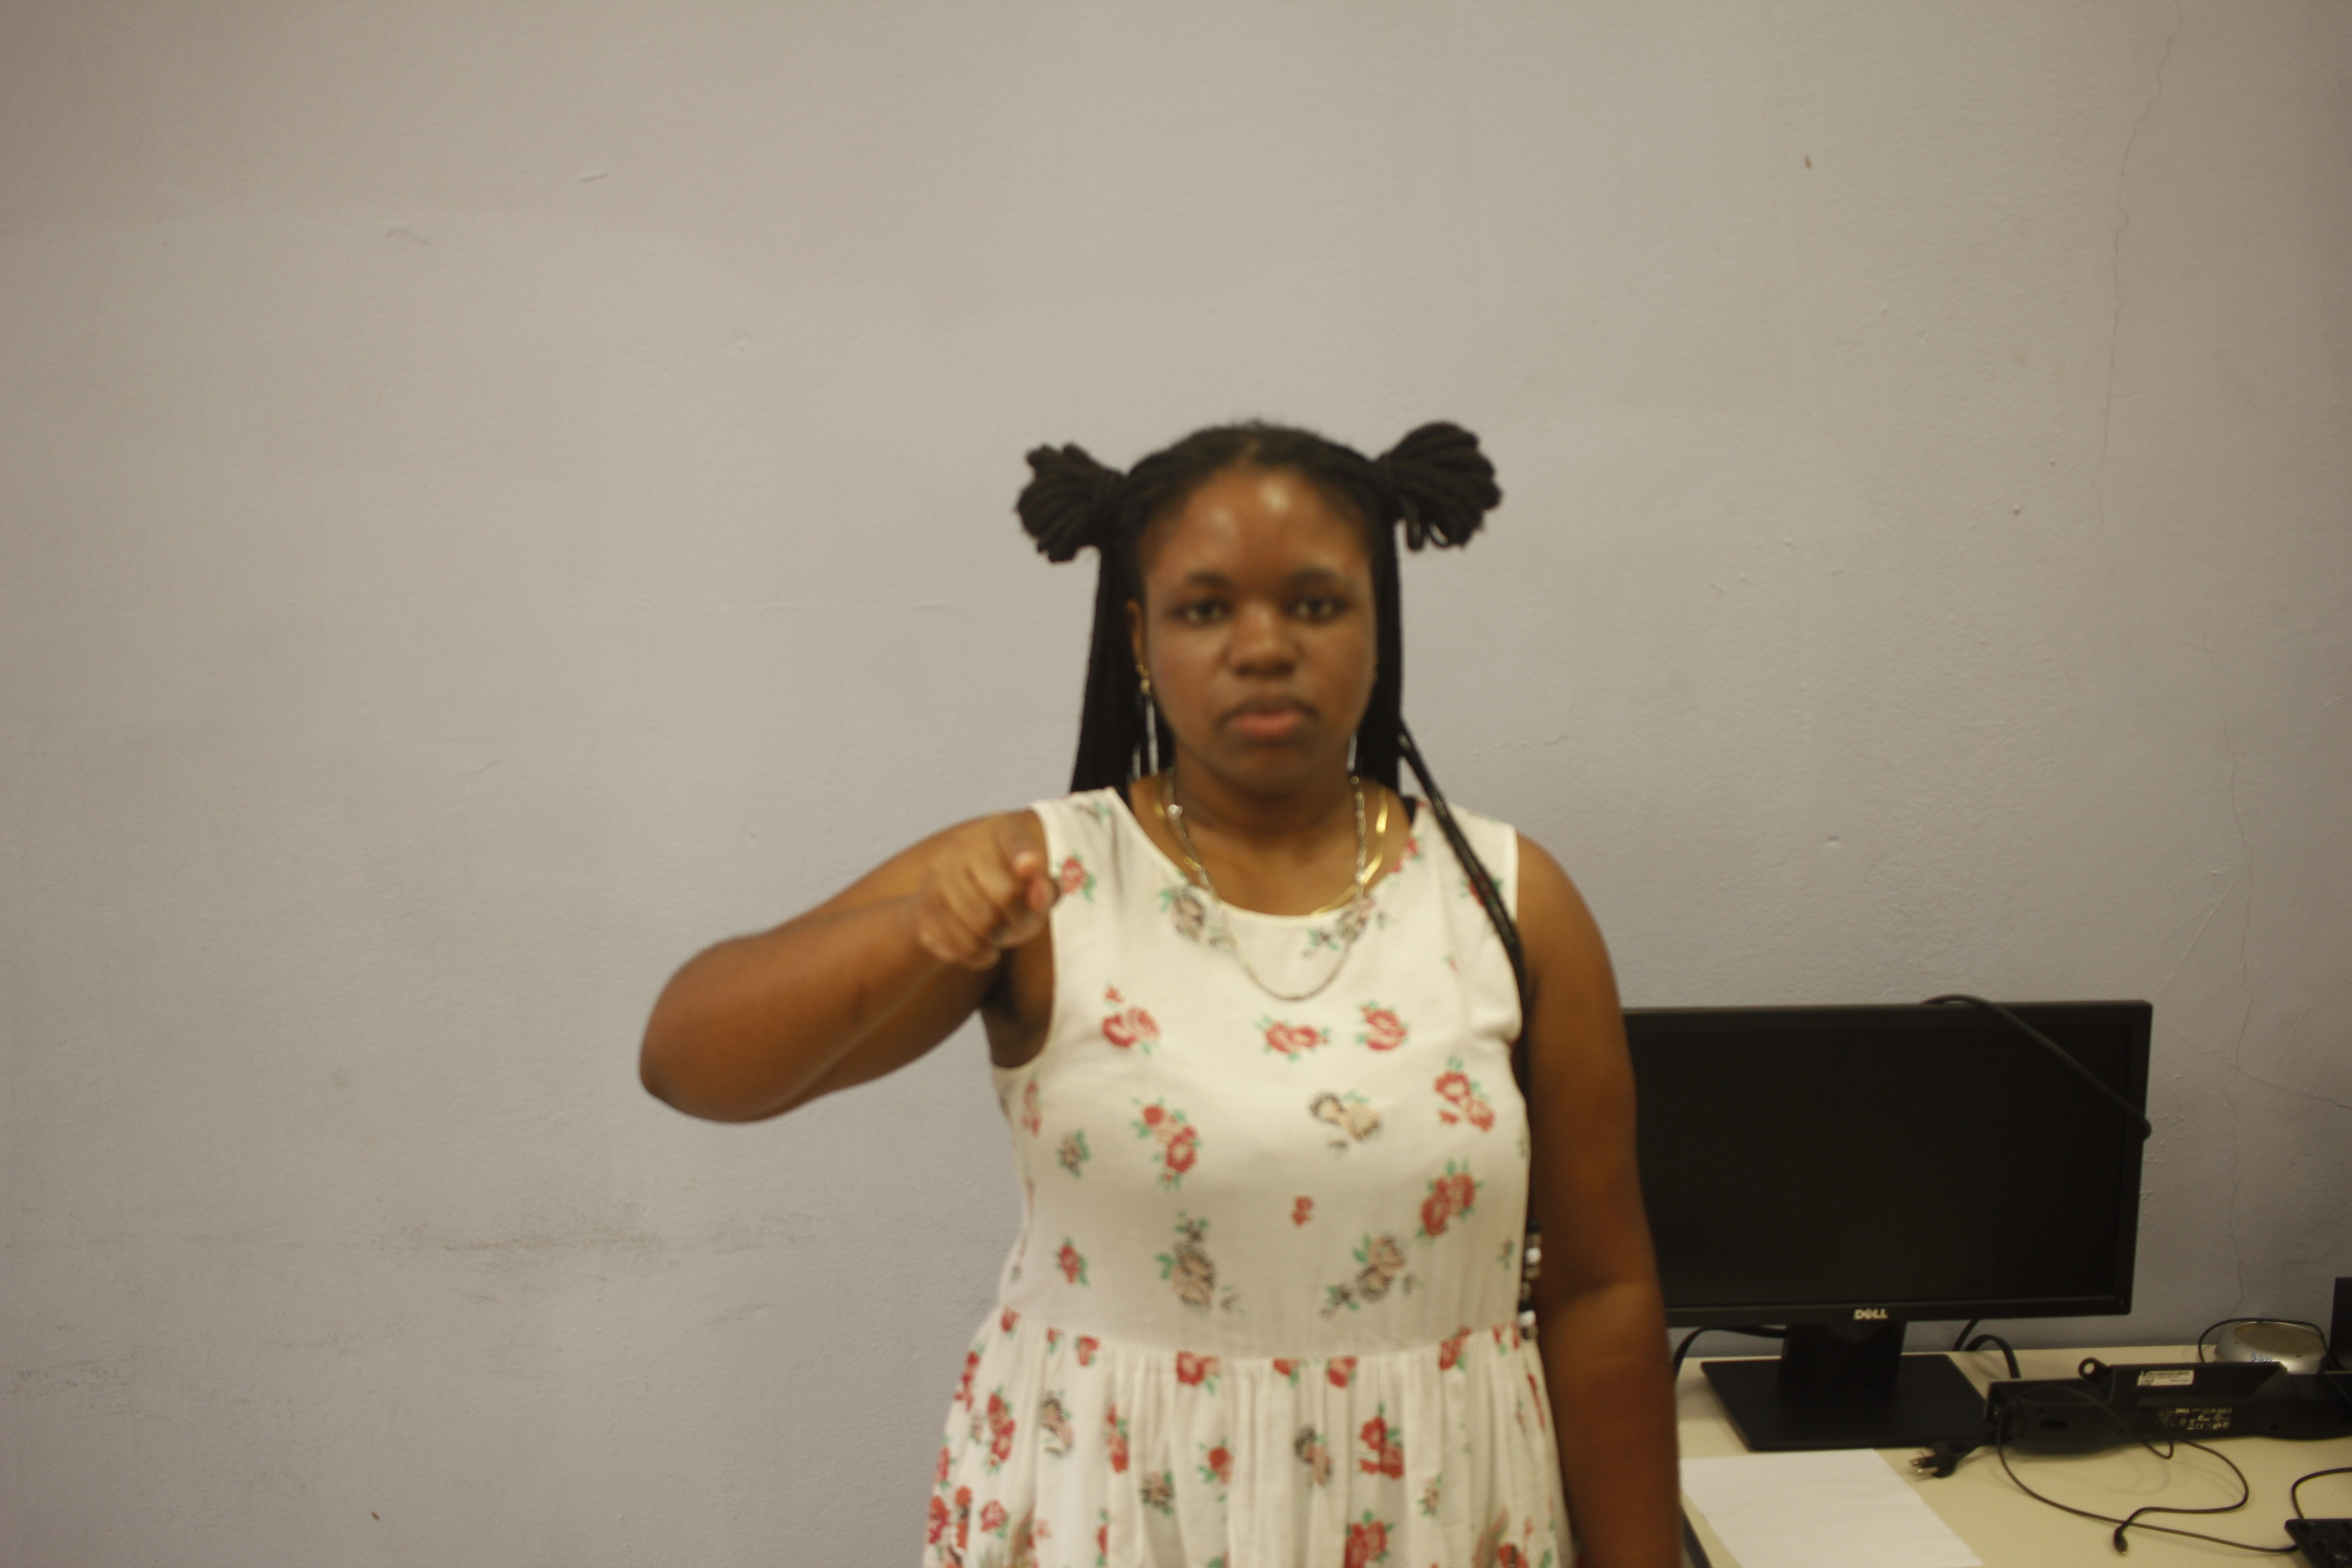point: (901, 817, 1073, 975)
